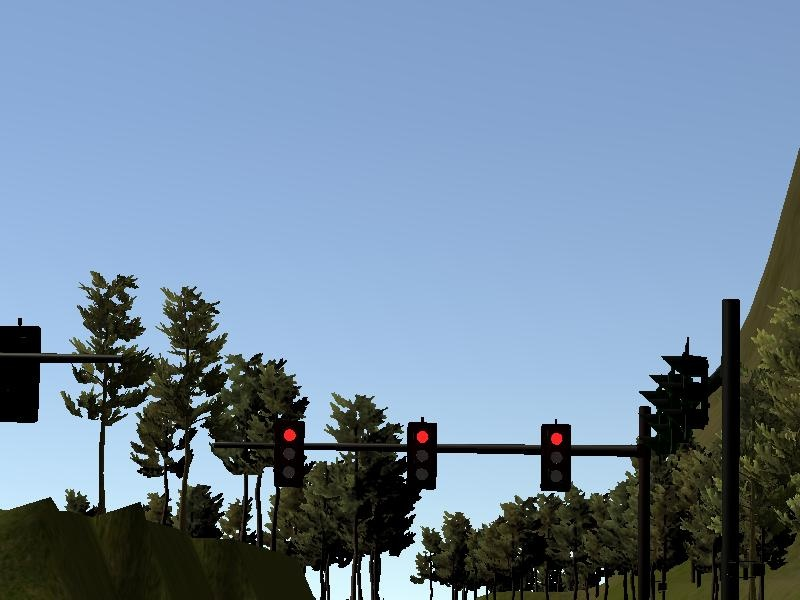RED: (540, 423, 571, 491), (405, 422, 436, 490), (273, 420, 304, 488)
